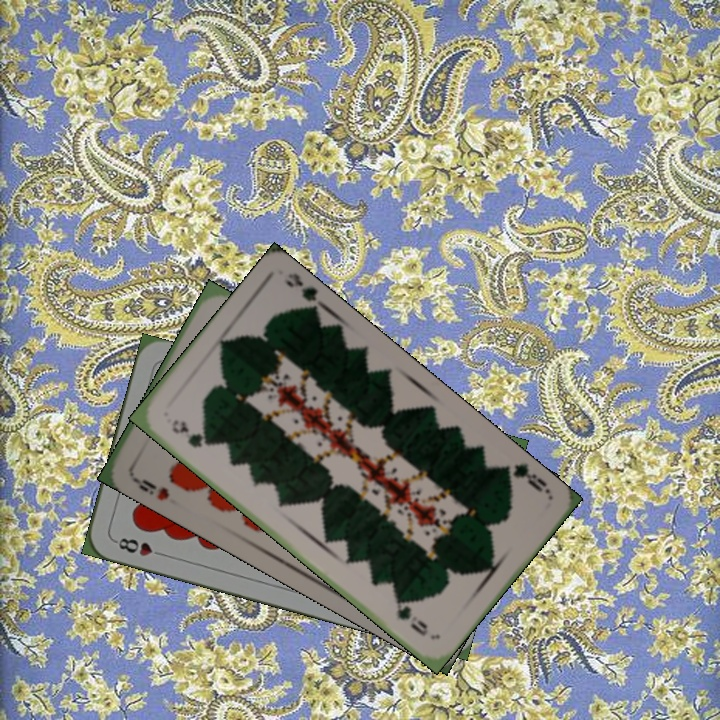G9: (497, 460, 553, 497), (167, 415, 212, 451)
H8: (110, 533, 168, 559)
H9: (127, 469, 172, 503)
